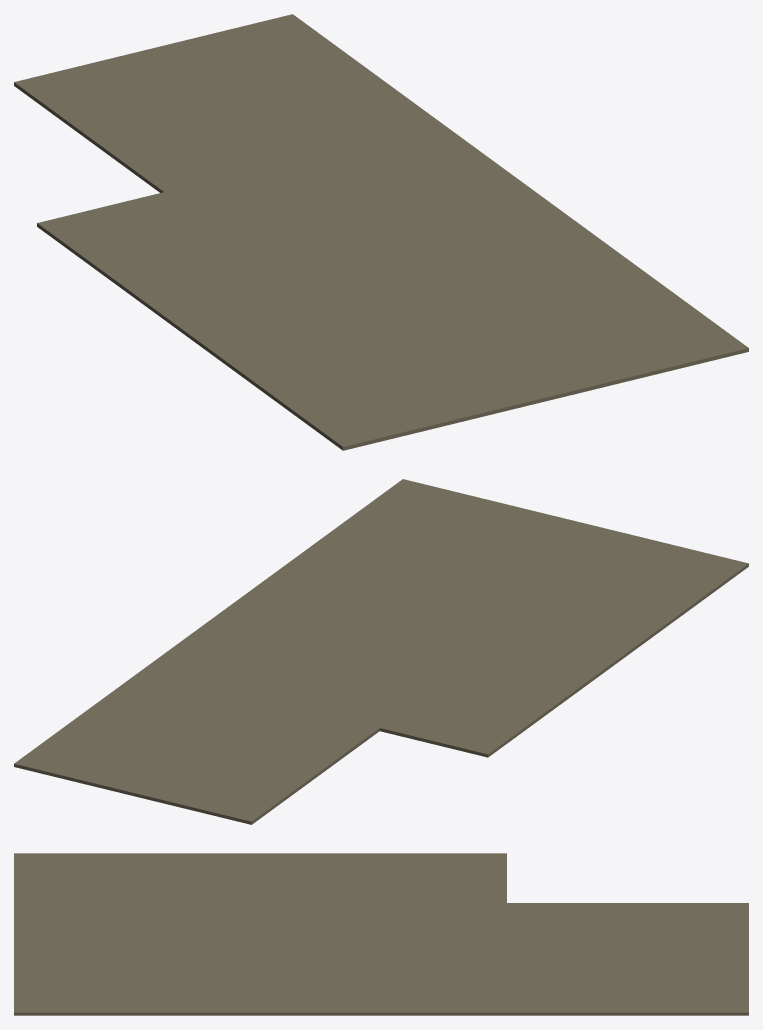
File: TempleTile_F.fbx
3 renders of one model, top to bottom at view 1: azimuth 30°, elevation 25°; view 2: azimuth 150°, elevation 25°; view 3: azimuth 270°, elevation 25°, orthographic. The views are drawn at different scales.
Parts seen in each view (by area): view 1: TempleTile_F; view 2: TempleTile_F; view 3: TempleTile_F.
Boxes of the visible parts, bbox=[...] form: TempleTile_F: bbox=[14, 14, 748, 450]; TempleTile_F: bbox=[14, 479, 748, 824]; TempleTile_F: bbox=[14, 853, 748, 1015].
Bounding box in the file's own units: 2039 × 18.13 × 3971.
